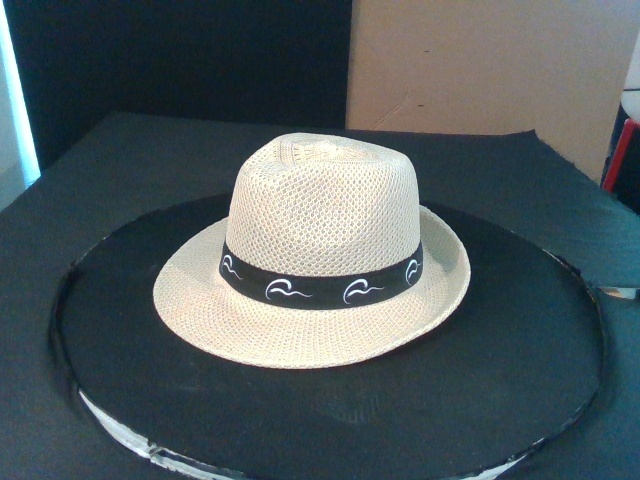hat: (153, 132, 472, 371)
